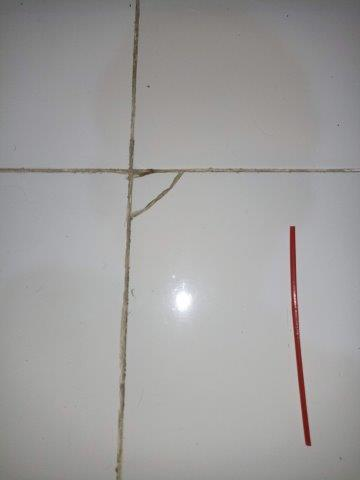sedotan: (290, 226, 312, 446)
